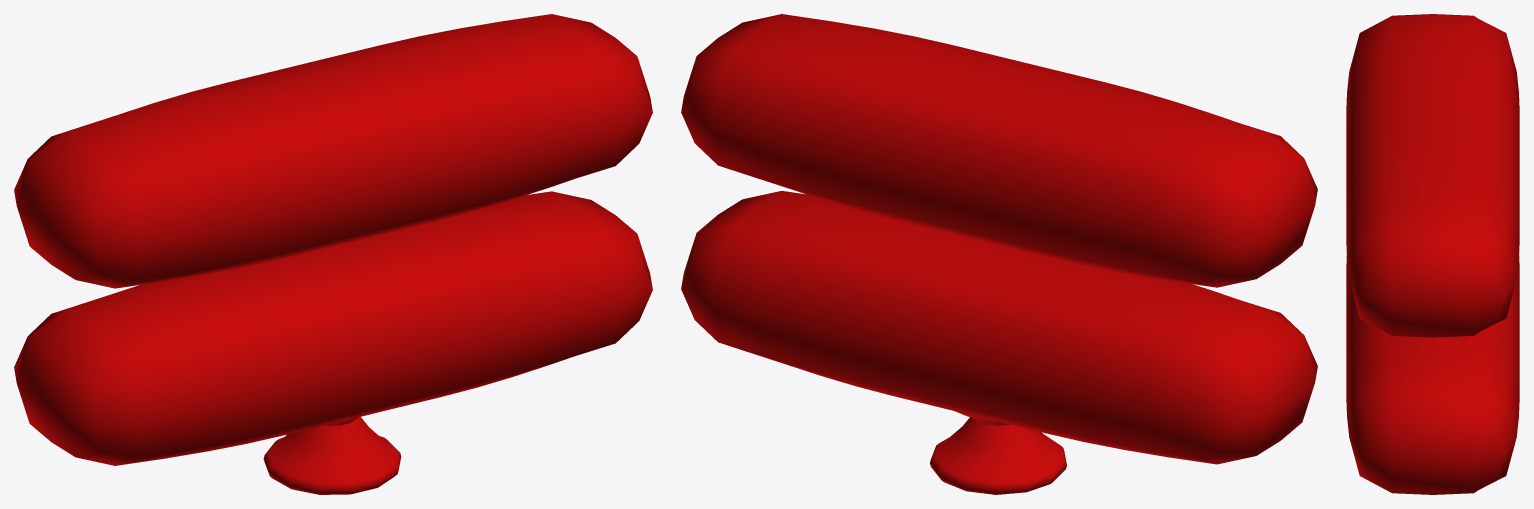
The picture shows the model from 3 angles, left to right: view 1: azimuth 30°, elevation 25°; view 2: azimuth 150°, elevation 25°; view 3: azimuth 270°, elevation 25°; orthographic projection. The views are drawn at different scales.
Visible parts, largest first — view 1: Text027; view 2: Text027; view 3: Text027.
Boxes of the visible parts, x1,y1,x2,y2 form: Text027: (14,14,652,494); Text027: (681,14,1317,494); Text027: (1346,14,1519,494).
Bounding box in the file's own units: 54.71 × 34.59 × 15.67.
